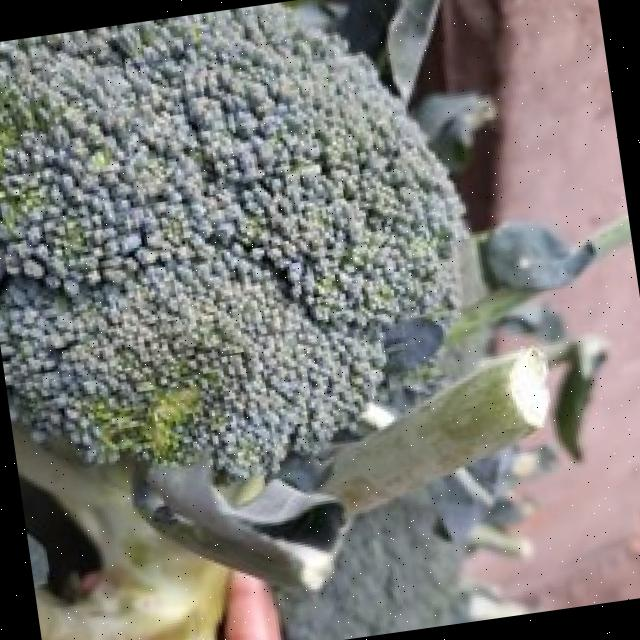Broccoli: (0, 3, 463, 478), (0, 3, 462, 475)
